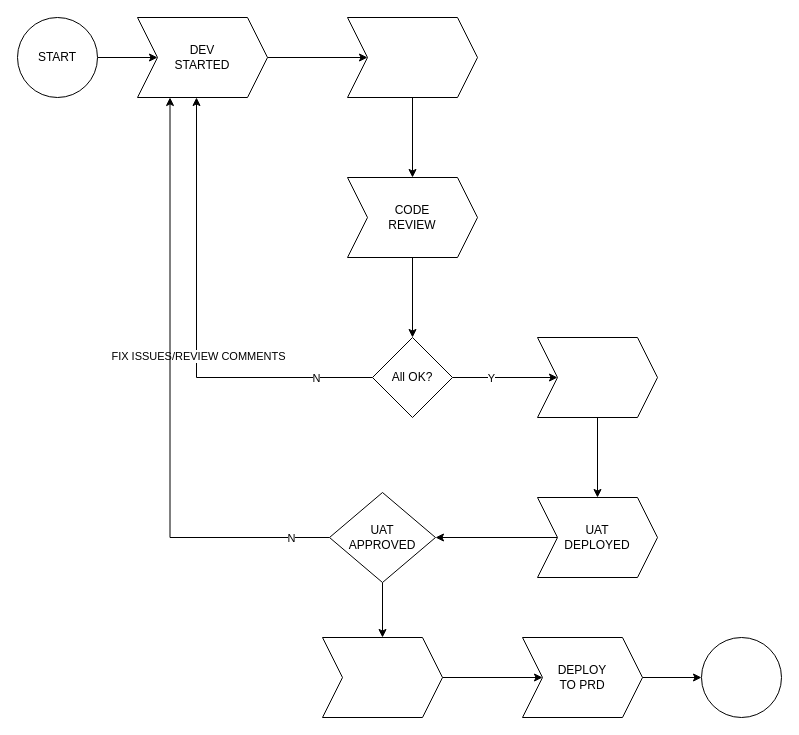
Image size: 799x735. Some labels were removed from this diagram. The shapes that lost their labels are listed below. From the top down, each one's centre as x and y in pixels, then its label:
(412,57): DEV COMPELTED
(597,377): PUSH CODE TO UAT
(382,677): PUSH CODE TO MASTER
(741,677): END
